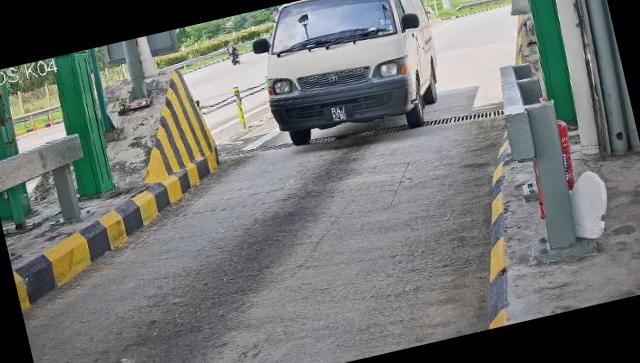License_Plate: (321, 101, 358, 130)
van: (248, 1, 450, 158)
